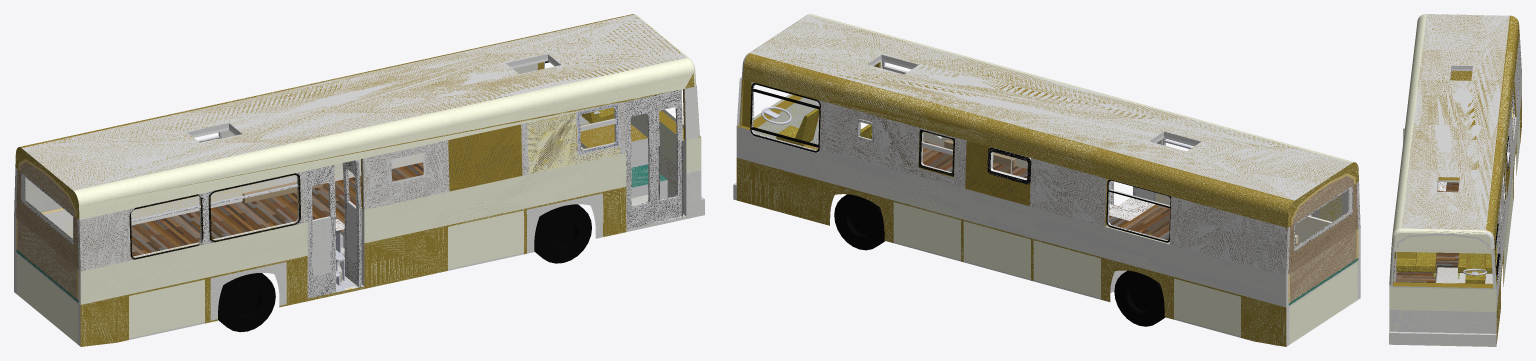
File: bus.glb
3 renders of one model, left to right at view 1: azimuth 30°, elevation 25°; view 2: azimuth 150°, elevation 25°; view 3: azimuth 270°, elevation 25°, orthographic. The views are drawn at different scales.
Parts seen in each view (by area): view 1: carrosserie_toit.001, carrosserie_tracer.053, carrosserie_tracer.222, carrosserie_tracer.221, plancher, carrosserie_tracer.158, porte_car_avt, carrosserie_tracer.226, carrosserie_tracer.198, soutes_portes_fermees.005, soutes_portes_fermees.003, soutes_portes (+33 smaller); view 2: carrosserie_toit.001, carrosserie_tracer.136, carrosserie_tracer.056, carrosserie_tracer.159, carrosserie_tracer.200, carrosserie_tracer.203, carrosserie_tracer.215, soutes_portes.001, soutes_portes_fermees.002, soutes_portes_fermees.001, soutes_portes_fermees.004, soutes_portes.002 (+21 smaller); view 3: carrosserie_toit.001, carrosserie_tracer.069, carrosserie_tracer.056, carrosserie_tracer.047, carrosserie_tracer.053, carrosserie_tracer.001, carrosserie_tracer.164, plancher, banquette_d, carrosserie_tracer.136, carrosserie_tracer.002, siege_conducteur (+23 smaller).
Boxes of the visible parts, x1=… form: carrosserie_toit.001: x1=22, y1=15, x2=686, y2=190; carrosserie_tracer.053: x1=73, y1=57, x2=693, y2=205; carrosserie_tracer.222: x1=364, y1=153, x2=626, y2=243; carrosserie_tracer.221: x1=80, y1=222, x2=307, y2=304; plancher: x1=72, y1=162, x2=423, y2=256; carrosserie_tracer.158: x1=80, y1=186, x2=626, y2=346; porte_car_avt: x1=625, y1=89, x2=682, y2=229; carrosserie_tracer.226: x1=79, y1=102, x2=621, y2=219; carrosserie_tracer.198: x1=448, y1=124, x2=522, y2=191; soutes_portes_fermees.005: x1=448, y1=210, x2=523, y2=269; soutes_portes_fermees.003: x1=129, y1=279, x2=204, y2=338; soutes_portes: x1=369, y1=227, x2=444, y2=286; carrosserie_toit.001: x1=751, y1=15, x2=1351, y2=200; carrosserie_tracer.136: x1=750, y1=135, x2=1288, y2=307; carrosserie_tracer.056: x1=743, y1=53, x2=1358, y2=227; carrosserie_tracer.159: x1=736, y1=158, x2=1286, y2=346; carrosserie_tracer.200: x1=819, y1=101, x2=966, y2=188; carrosserie_tracer.203: x1=1175, y1=198, x2=1241, y2=263; carrosserie_tracer.215: x1=1035, y1=160, x2=1100, y2=225; soutes_portes.001: x1=750, y1=163, x2=820, y2=221; soutes_portes_fermees.002: x1=1033, y1=240, x2=1100, y2=298; soutes_portes_fermees.001: x1=893, y1=202, x2=960, y2=259; soutes_portes_fermees.004: x1=963, y1=221, x2=1030, y2=278; soutes_portes.002: x1=1174, y1=278, x2=1240, y2=336; carrosserie_toit.001: x1=1401, y1=14, x2=1509, y2=230; carrosserie_tracer.069: x1=1389, y1=287, x2=1496, y2=312; carrosserie_tracer.056: x1=1486, y1=16, x2=1519, y2=246; carrosserie_tracer.047: x1=1389, y1=310, x2=1496, y2=333; carrosserie_tracer.053: x1=1392, y1=14, x2=1426, y2=233; carrosserie_tracer.001: x1=1391, y1=228, x2=1490, y2=249; carrosserie_tracer.164: x1=1389, y1=333, x2=1496, y2=346; plancher: x1=1395, y1=106, x2=1512, y2=282; banquette_d: x1=1396, y1=252, x2=1436, y2=272; carrosserie_tracer.136: x1=1497, y1=72, x2=1521, y2=304; carrosserie_tracer.002: x1=1389, y1=81, x2=1516, y2=288; siege_conducteur: x1=1465, y1=253, x2=1485, y2=283.
Bounding box in the file's own units: 12.11 × 3.25 × 3.09.
29 materials, 5 textured.
